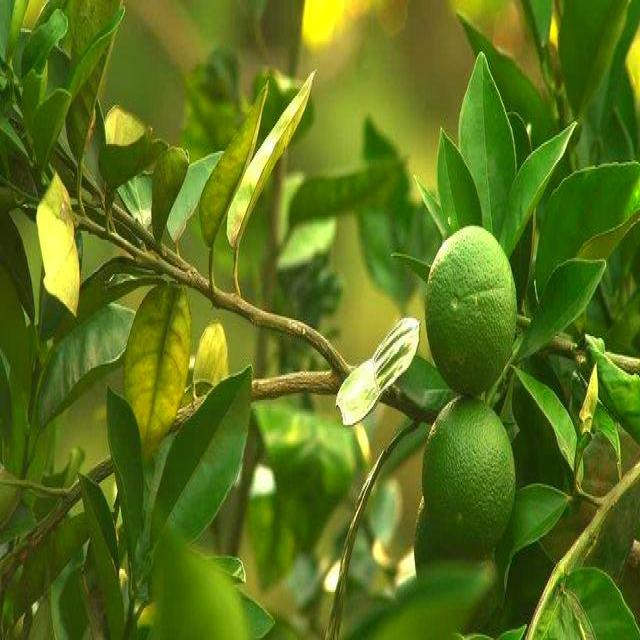Jeruk Belum Matang: (424, 218, 520, 398), (424, 396, 518, 556), (415, 498, 501, 598)
